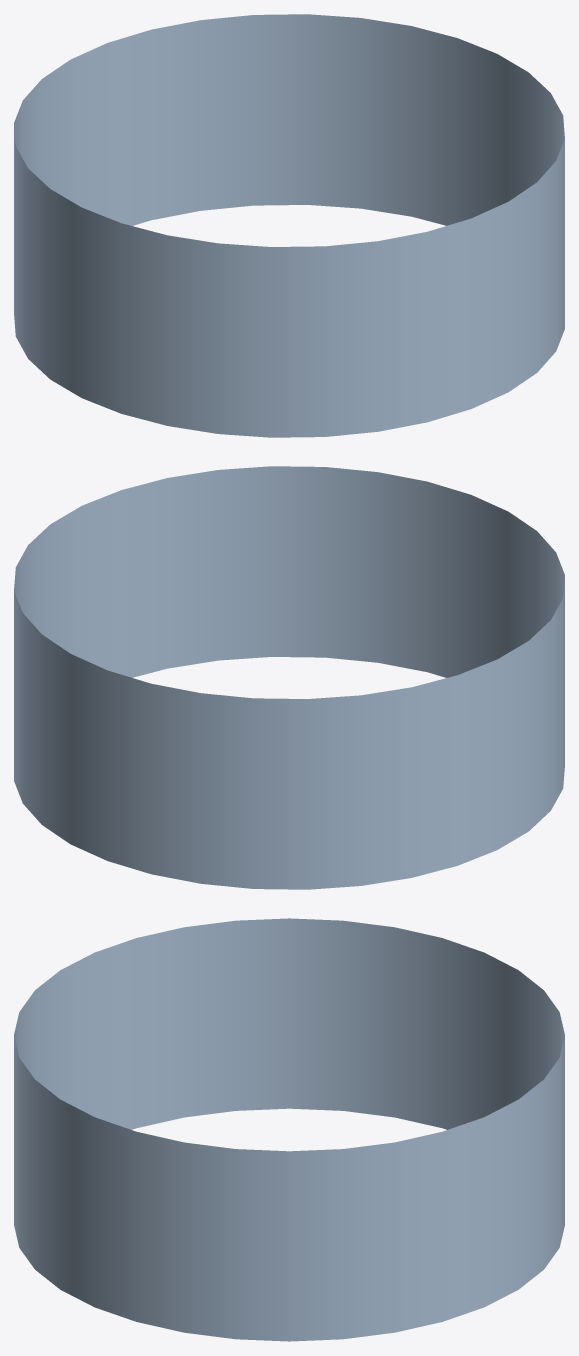
File: entranceborder.gltf
The picture shows the model from 3 angles, top to bottom: view 1: azimuth 30°, elevation 25°; view 2: azimuth 150°, elevation 25°; view 3: azimuth 270°, elevation 25°; orthographic projection.
Visible parts, largest first — view 1: Cylinder; view 2: Cylinder; view 3: Cylinder.
Boxes of the visible parts, x1,y1,x2,y2 form: Cylinder: (14, 14, 564, 437); Cylinder: (14, 466, 564, 889); Cylinder: (14, 918, 564, 1341).
Size of the model in its own units: 520 by 198 by 520.
